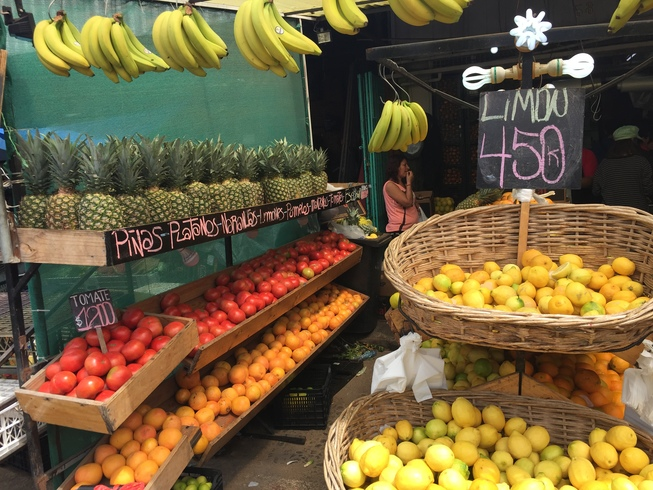precio: (476, 90, 586, 194), (65, 286, 130, 337)
